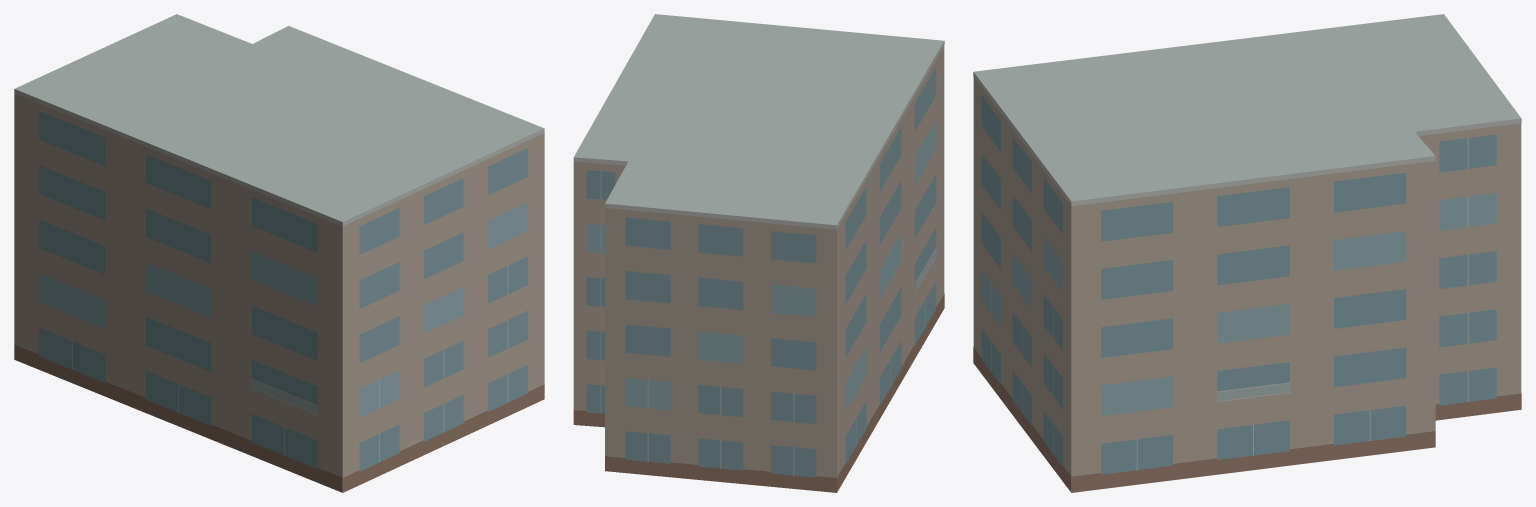
Rendered from survey-upis-32677541.glb.
3 views of the same model, side by side, from view 1: azimuth 30°, elevation 25°; view 2: azimuth 150°, elevation 25°; view 3: azimuth 270°, elevation 25° (orthographic). The views are drawn at different scales.
Parts seen in each view (by area): view 1: survey-upis-32677541.tmp; view 2: survey-upis-32677541.tmp; view 3: survey-upis-32677541.tmp.
Boxes of the visible parts, bbox=[...] form: survey-upis-32677541.tmp: bbox=[14, 14, 544, 492]; survey-upis-32677541.tmp: bbox=[573, 14, 944, 492]; survey-upis-32677541.tmp: bbox=[973, 14, 1521, 492].
Bounding box in the file's own units: 20.72 × 15 × 25.58.
